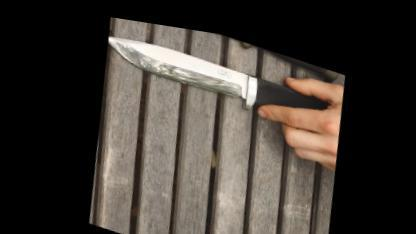knife: (99, 12, 301, 140), (148, 18, 259, 51)
